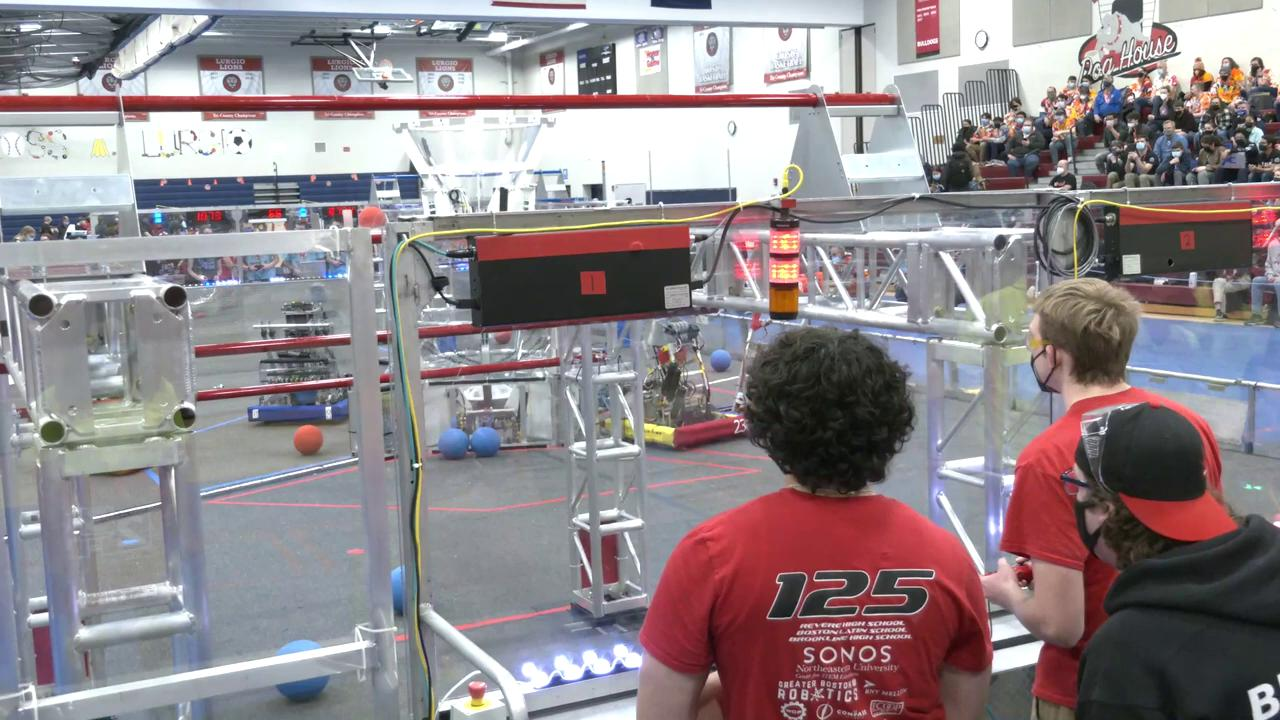robot: (598, 321, 749, 449), (243, 303, 350, 421)
